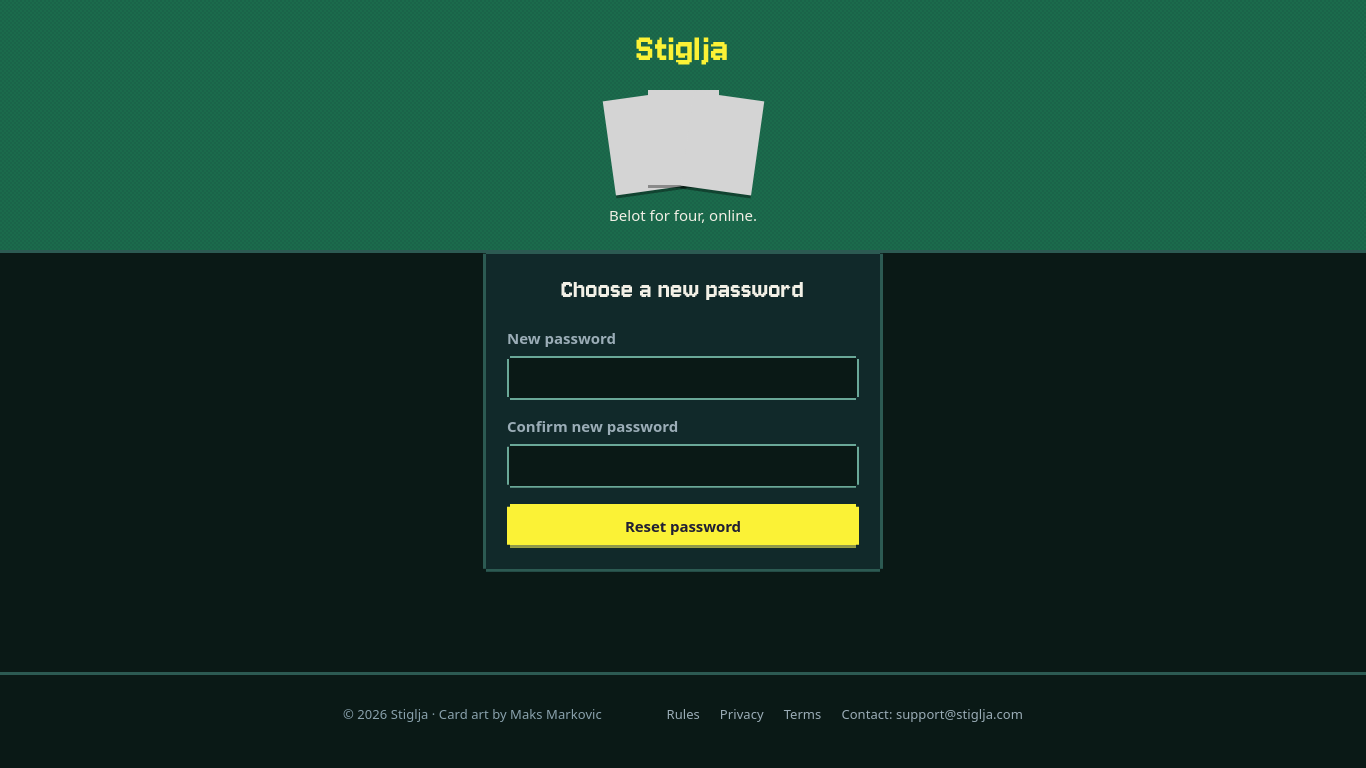
Scenario: ResetPasswordPage › a too-short password gets the backend rule message
This screenshot has width=1366, height=768.
Type "short12" into the password field labelled "New password". click: (683, 378)
box: left=507, top=356, right=859, bottom=400
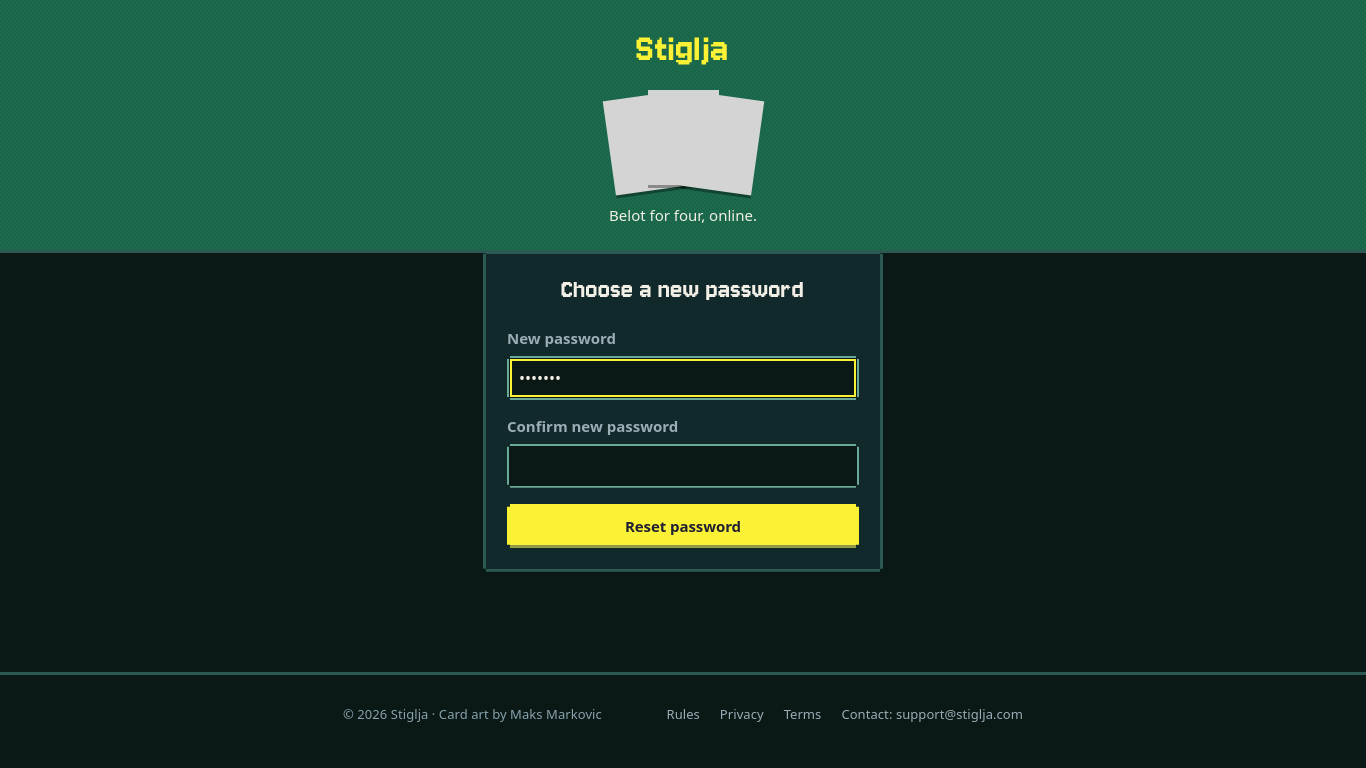
Type "short12" into the password field labelled "Confirm new password". click: (683, 466)
box: left=507, top=444, right=859, bottom=488
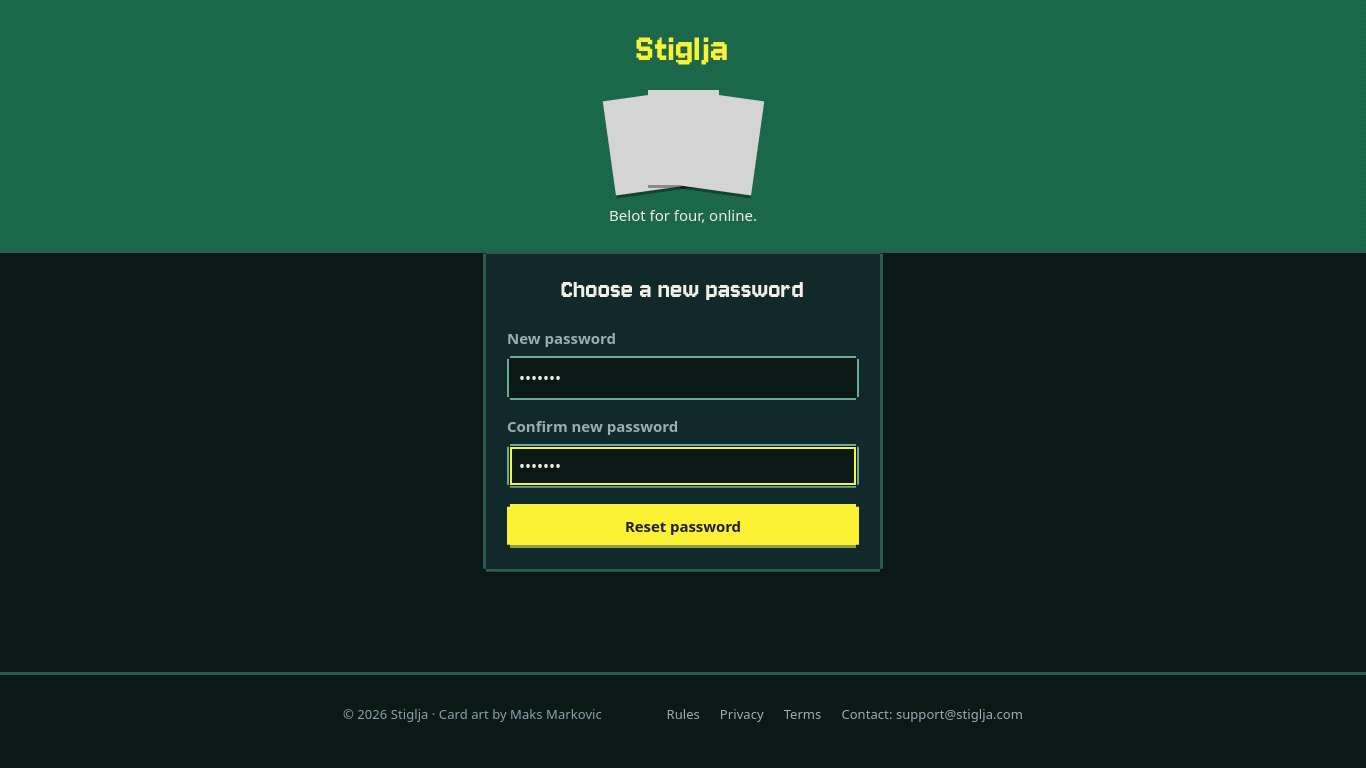
Click the button "Reset password". click: (683, 526)
box: left=507, top=504, right=859, bottom=548
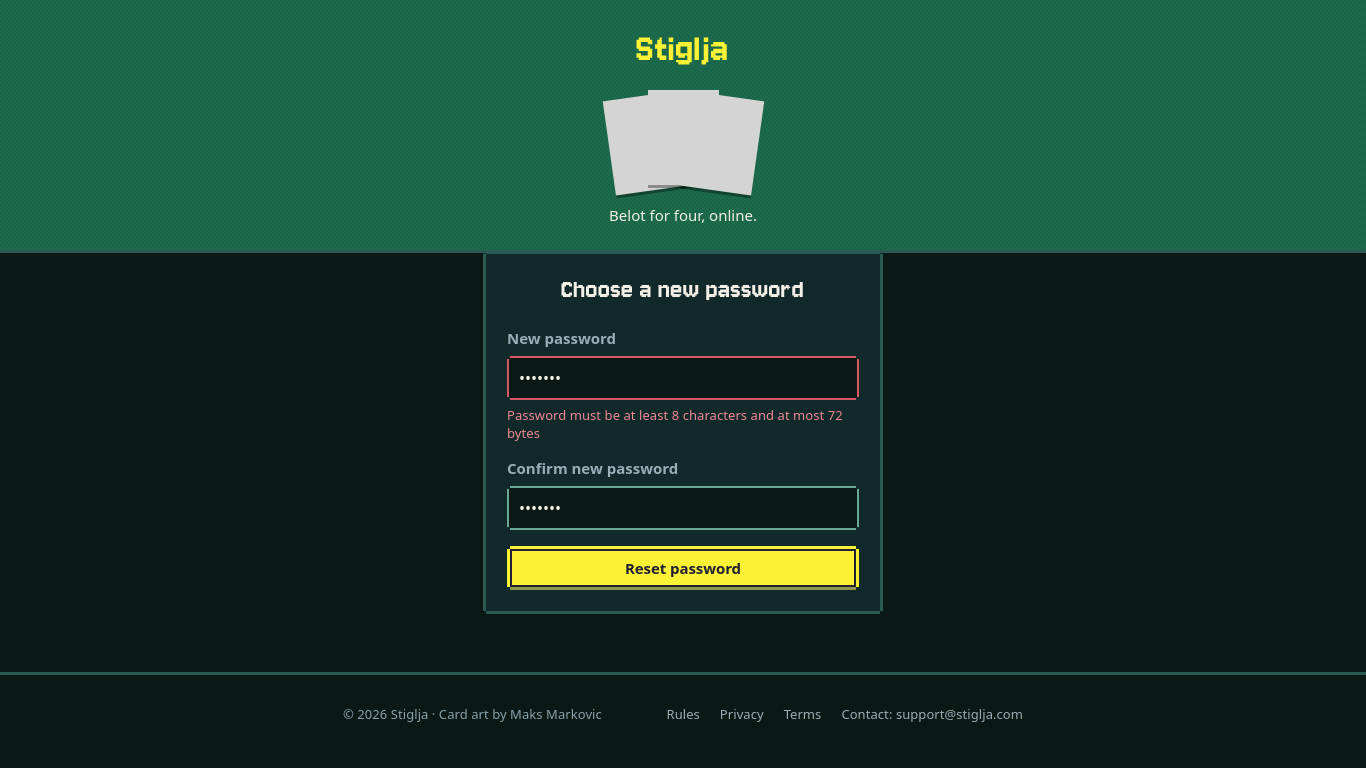
Expected: the text "Password must be at least 8 characters and at most 72 bytes" is shown, left=507, top=406, right=859, bottom=442
